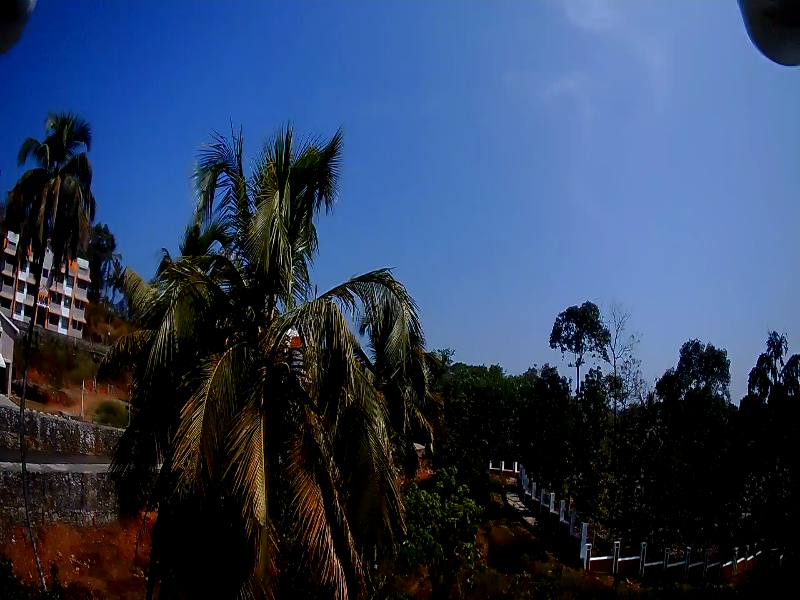coconut: (276, 357, 292, 370)
